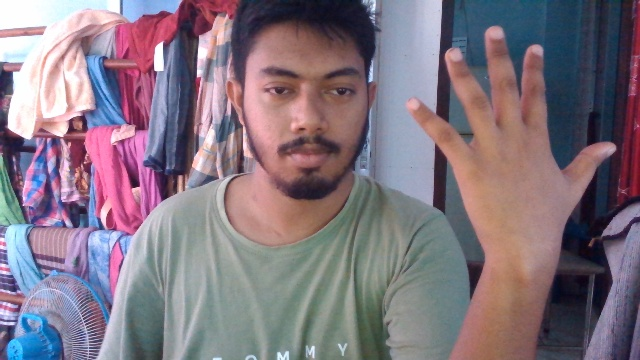hello: (400, 22, 620, 268)
